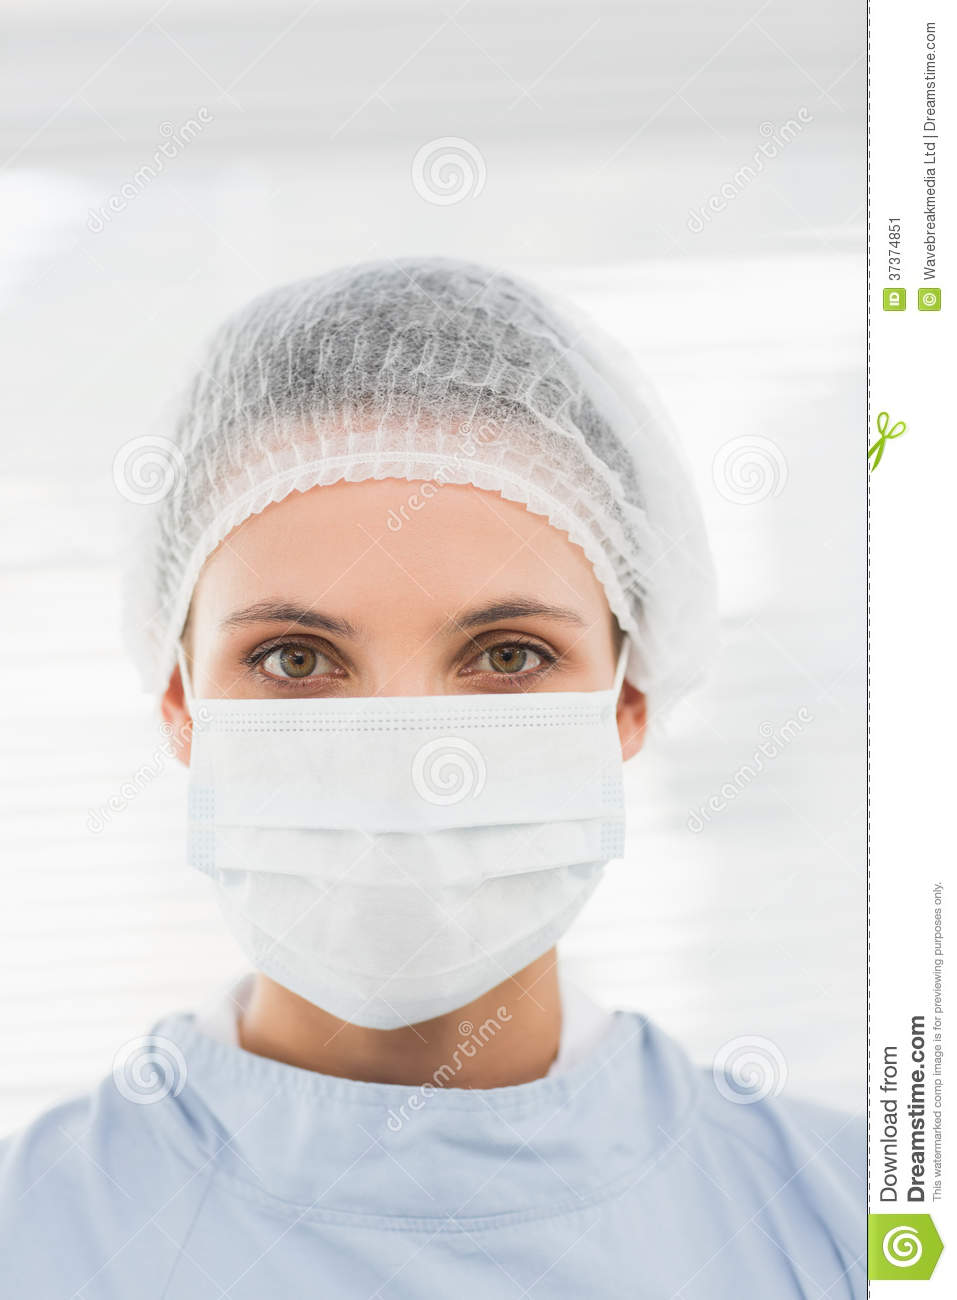mask: (168, 675, 632, 1051)
